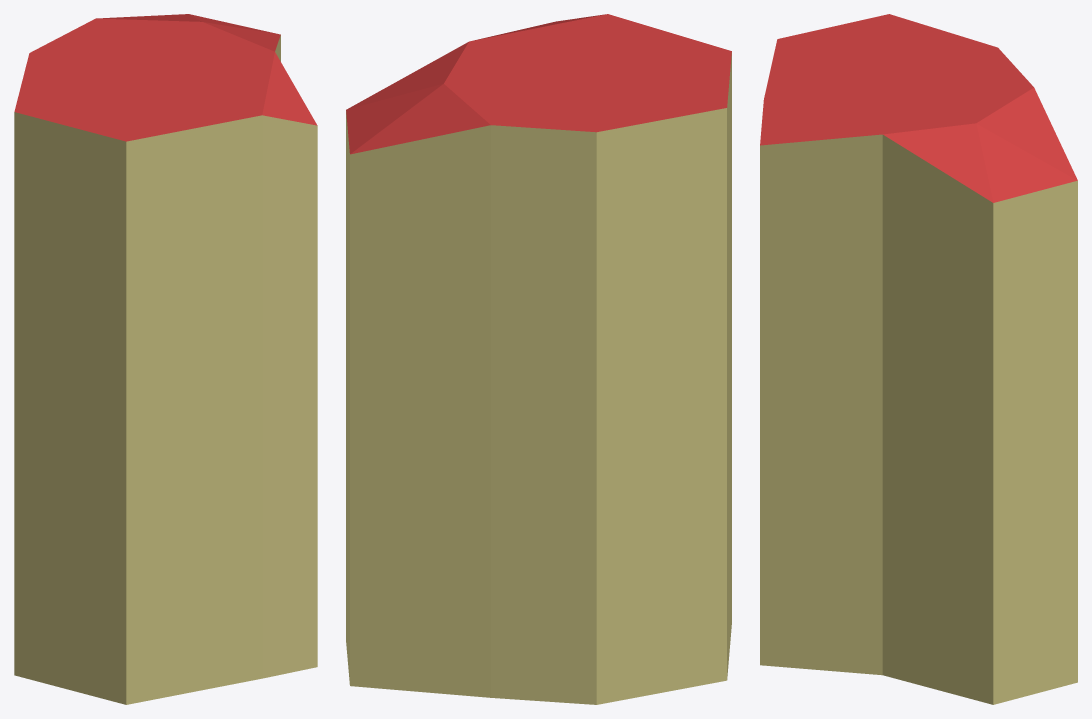
3 renders of one model, left to right at view 1: azimuth 30°, elevation 25°; view 2: azimuth 150°, elevation 25°; view 3: azimuth 270°, elevation 25°, orthographic. The views are drawn at different scales.
Visible parts, largest first — view 1: group_4, group_3; view 2: group_4, group_3; view 3: group_4, group_3.
Part boxes in pixels (box(x1,y1,x2,y2)): group_4: box(14, 35, 317, 704); group_3: box(14, 14, 317, 141); group_4: box(346, 52, 731, 704); group_3: box(346, 14, 731, 154); group_4: box(760, 134, 1077, 704); group_3: box(760, 14, 1077, 202).
Bounding box in the file's own units: 32.95 × 29.48 × 55.31.
